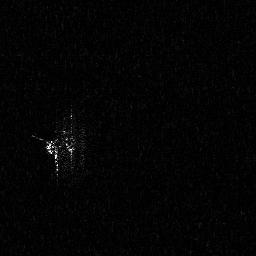ship: (30, 103, 93, 184)
